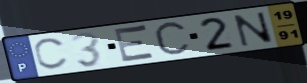2: (198, 16, 237, 52)
3: (70, 31, 105, 69)
C: (152, 19, 193, 59), (32, 36, 71, 71)
E: (112, 23, 158, 64)
N: (231, 11, 277, 48)
